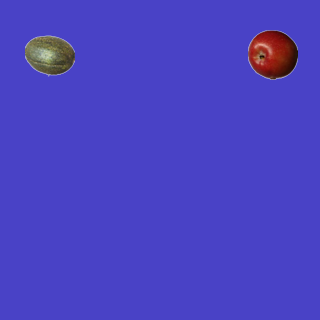Apple Braeburn: (247, 29, 297, 79)
Melon Piel de Sapo: (24, 30, 74, 80)
